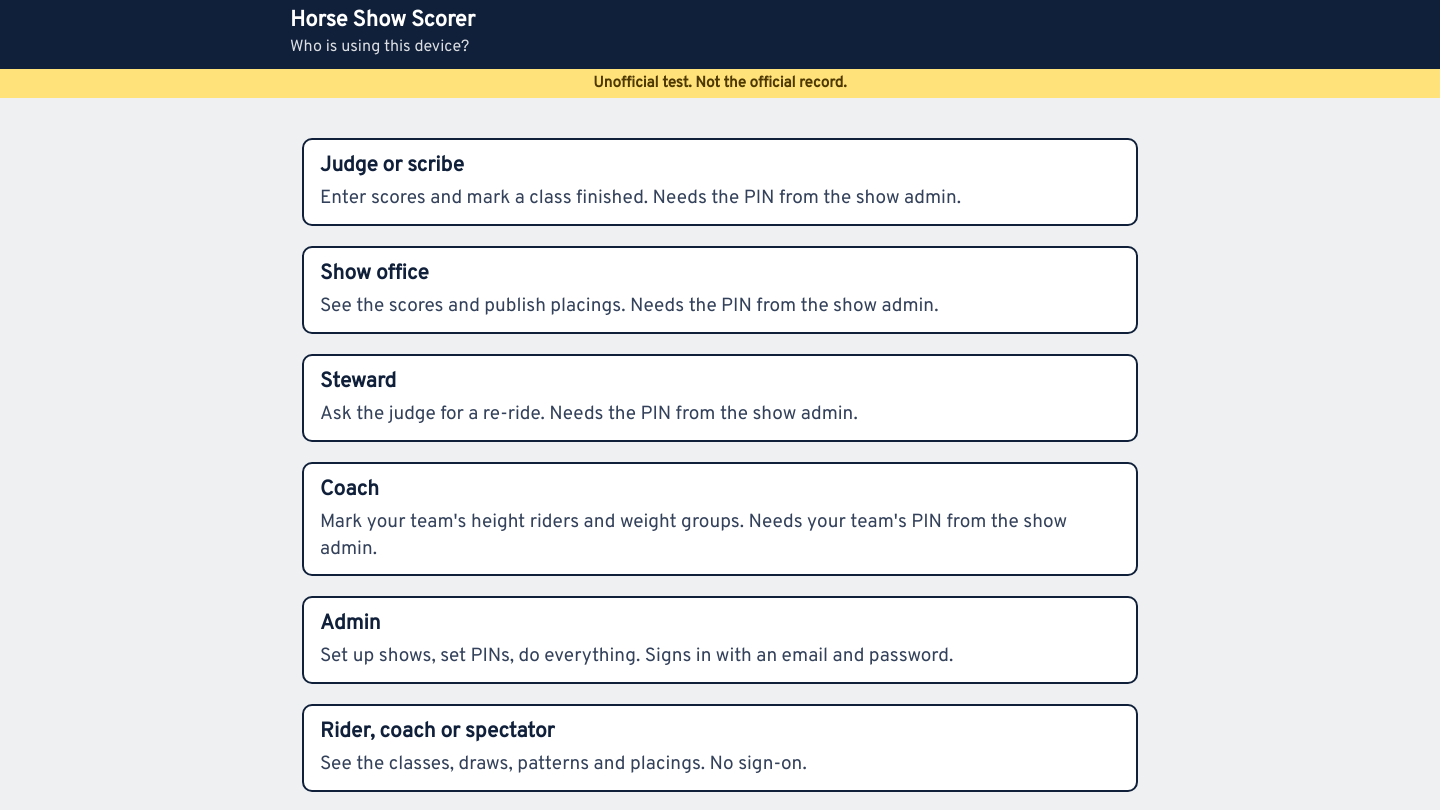
Test: the first screen asks who is using the device › a judge signs on with their PIN, reaches their show, and can sign off
Click the button "Judge or scribe".
click(392, 166)  # box x1=302 y1=138 x2=1138 y2=226
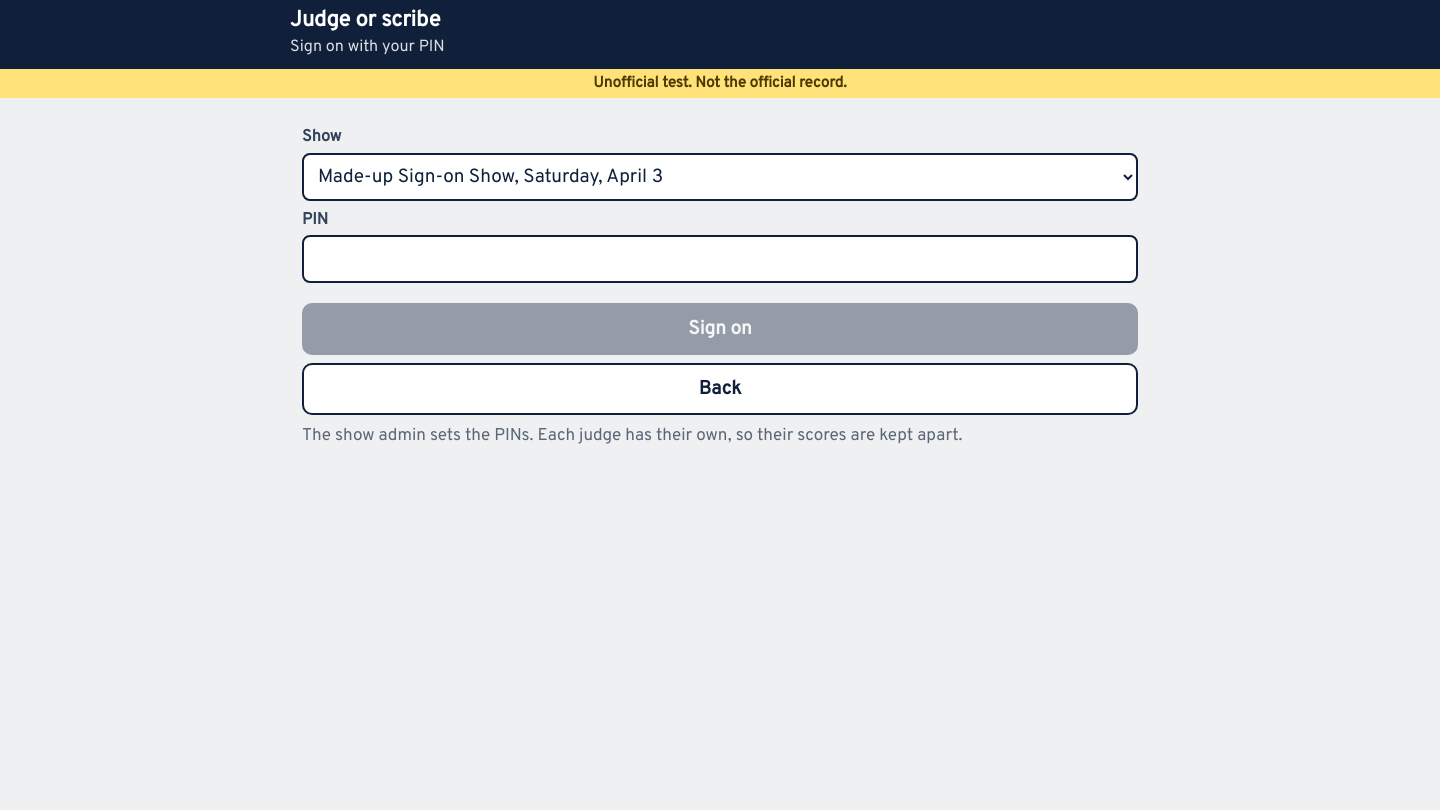
Type "222222" into the password field labelled "PIN".
click(720, 259); type("222222")  # box x1=302 y1=235 x2=1138 y2=283
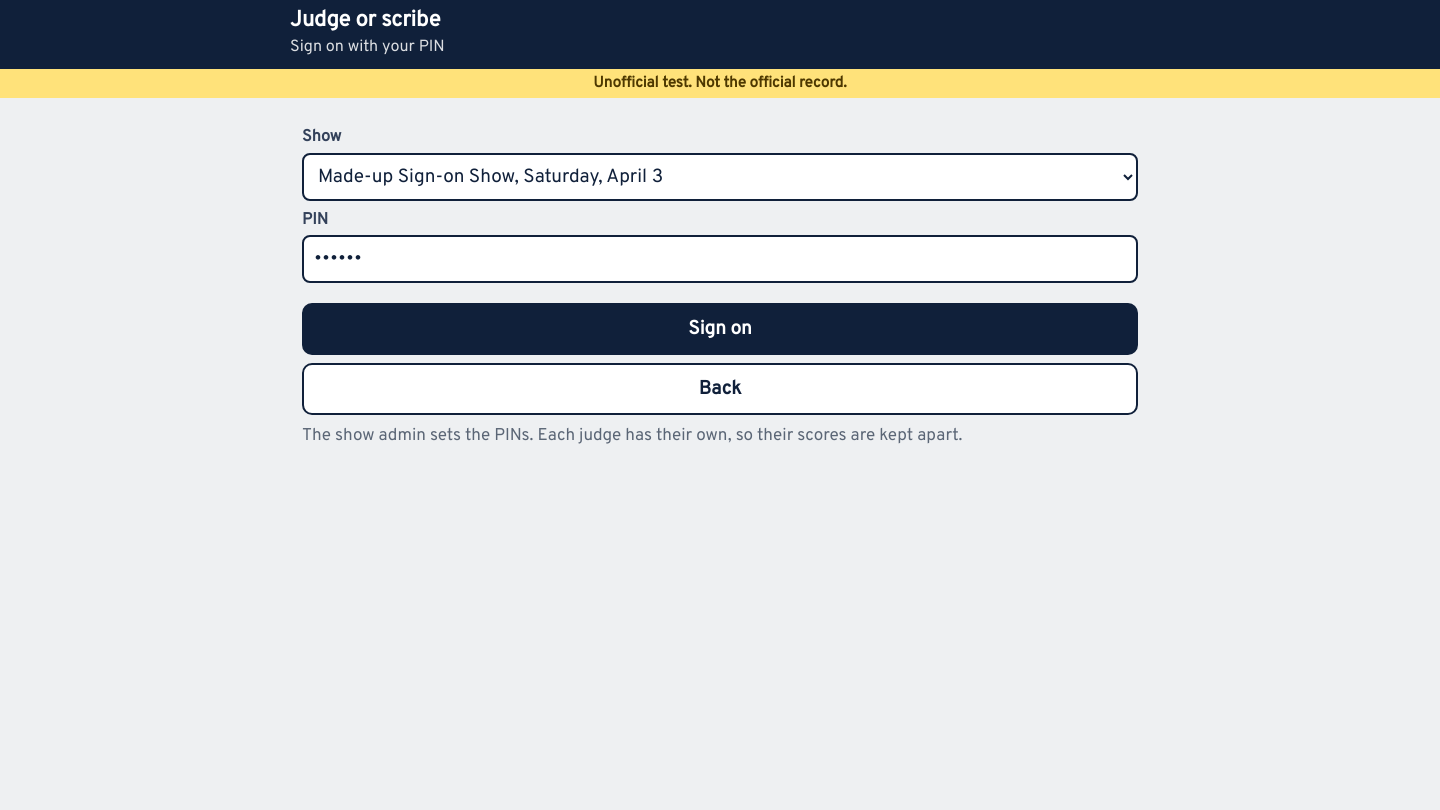
Click the button "Sign on".
click(720, 329)  # box x1=302 y1=303 x2=1138 y2=355
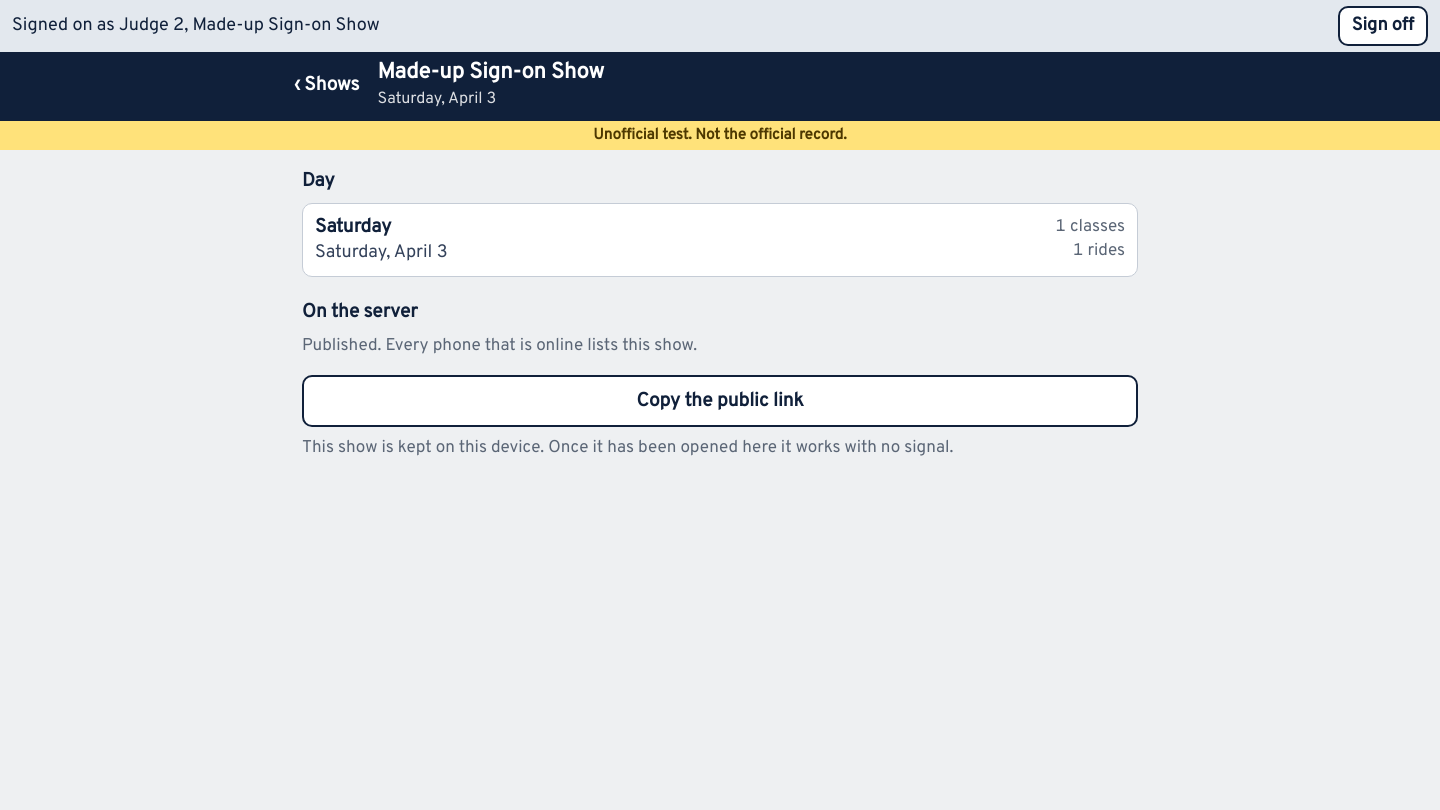
Check: the text "Signed on as Judge 2, Made-up Sign-on Show" is shown, box x1=12 y1=13 x2=380 y2=39
Check: the button "Saturday Saturday, April 3 1 classes1 rides" is shown, box x1=302 y1=203 x2=1138 y2=277
Check: the text "kept on this device" is shown, box x1=302 y1=437 x2=953 y2=459
Click the button "Sign off".
click(1383, 26)  # box x1=1338 y1=6 x2=1428 y2=46
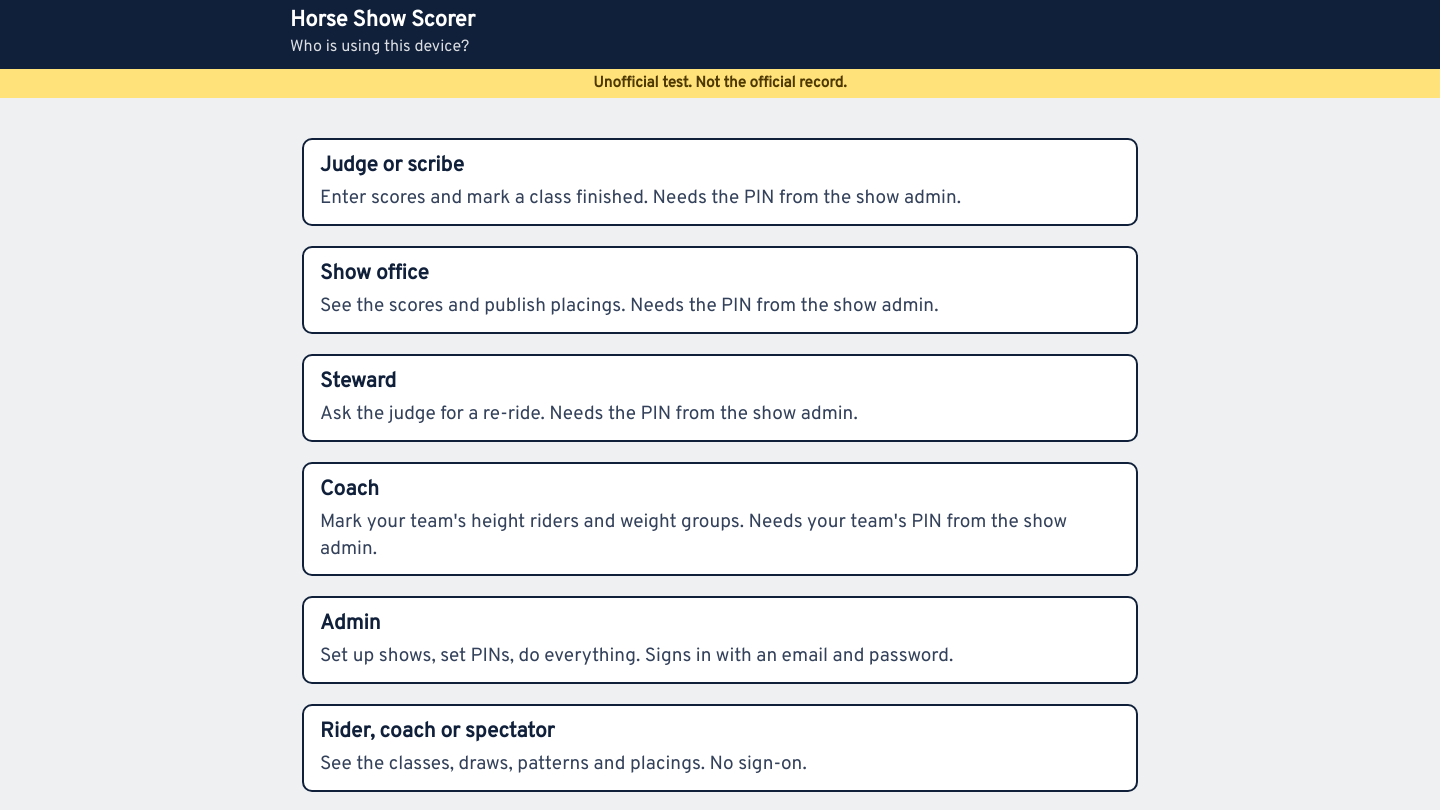
Check: the button "Judge or scribe" is shown, box x1=302 y1=138 x2=1138 y2=226
